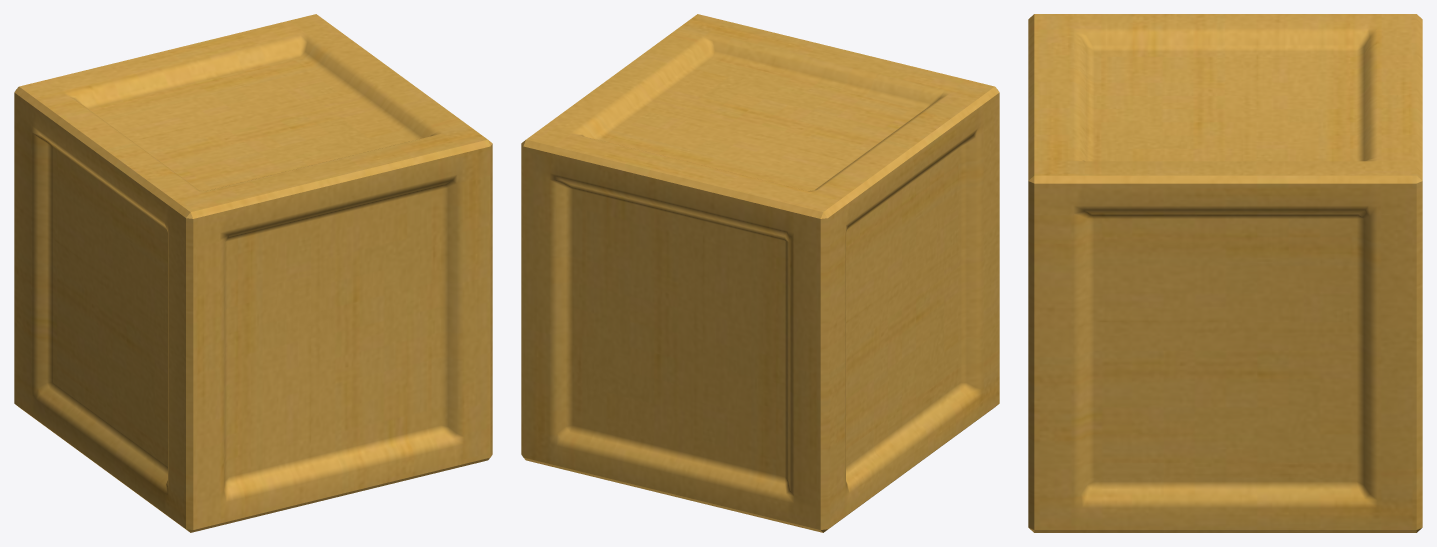
The model's file is ybox.fbx.
The picture shows the model from 3 angles, left to right: view 1: azimuth 30°, elevation 25°; view 2: azimuth 150°, elevation 25°; view 3: azimuth 270°, elevation 25°; orthographic projection. The views are drawn at different scales.
Visible parts, largest first — view 1: pCube160; view 2: pCube160; view 3: pCube160.
Boxes of the visible parts, box(x1,y1,x2,y2) form: pCube160: box(14, 14, 492, 532); pCube160: box(521, 14, 999, 532); pCube160: box(1028, 14, 1422, 532).
Bounding box in the file's own units: 53.81 × 53.81 × 53.81.
